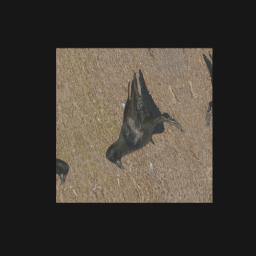Crow: (79, 65, 191, 171)
